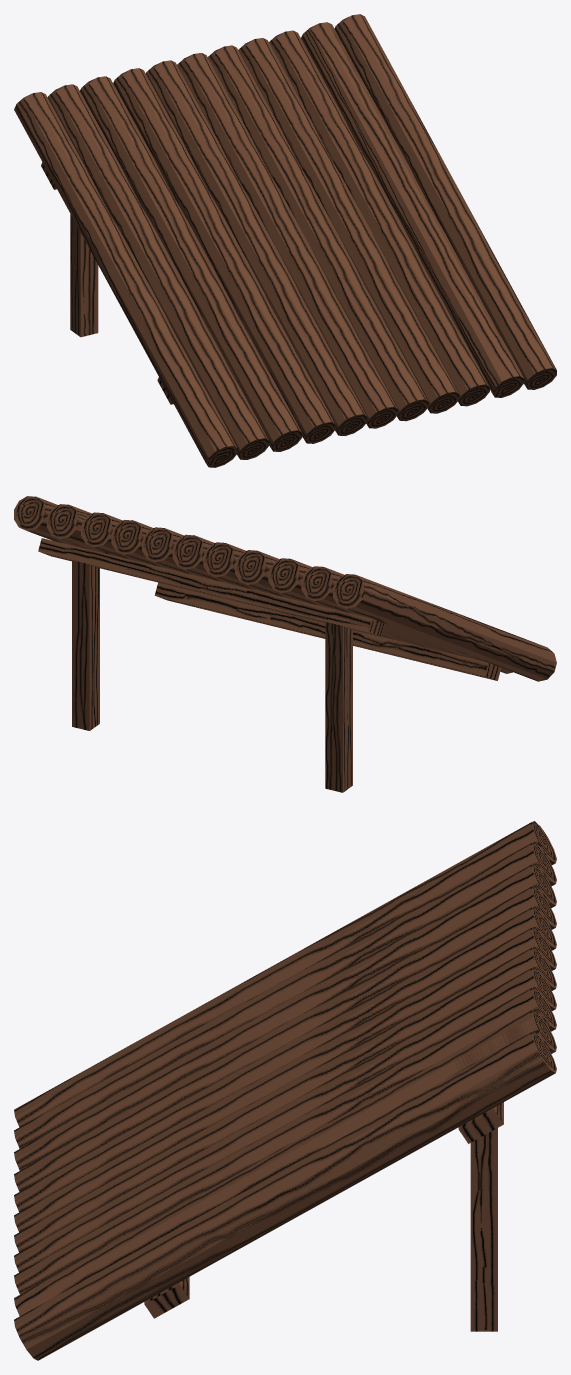
File: liggskydd 1.fbx
3 views of the same model, one above another, from view 1: azimuth 30°, elevation 25°; view 2: azimuth 150°, elevation 25°; view 3: azimuth 270°, elevation 25° (orthographic). The views are drawn at different scales.
Parts seen in each view (by area): view 1: pasted__pCube2; view 2: pasted__pCube2; view 3: pasted__pCube2.
Boxes of the visible parts, x1,y1,x2,y2 form: pasted__pCube2: (14,14,556,467); pasted__pCube2: (14,496,556,792); pasted__pCube2: (14,821,556,1360).
Bounding box in the file's own units: 19.71 × 12.98 × 19.66.
